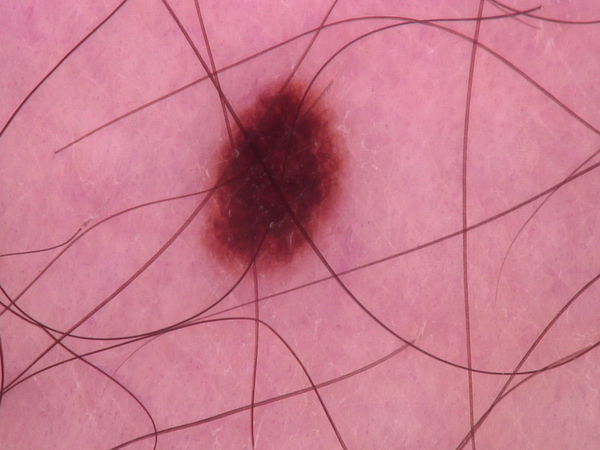Detected Lesion: (199, 74, 346, 284)
